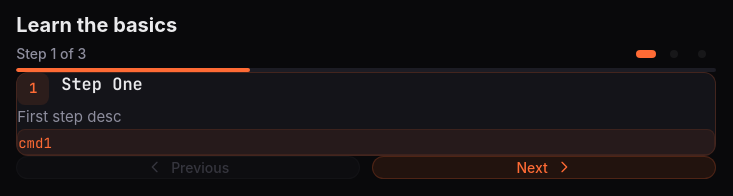
Scenario: StepThrough › navigates with Previous button
Click the button "Next" at coordinates (544, 167), box [372,156,716,179]
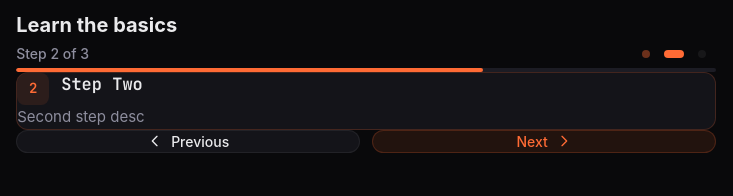
Click the button "Previous" at coordinates (188, 141), box [16,130,360,153]
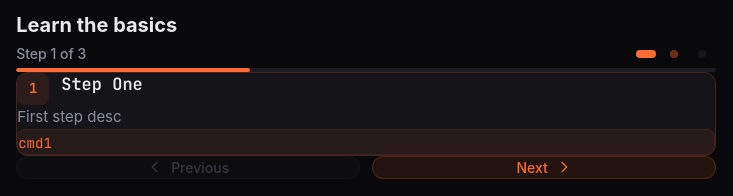
Result: the heading "Step One" is shown at [61,72,143,96]
